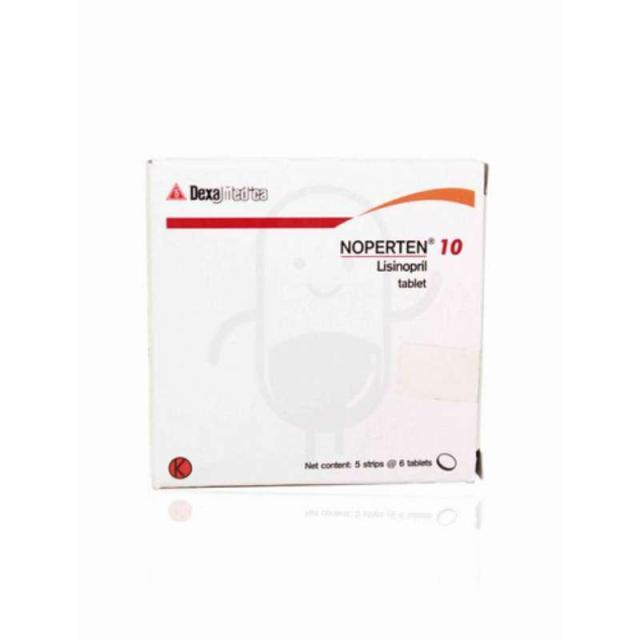drug-name: (339, 239, 467, 257)
